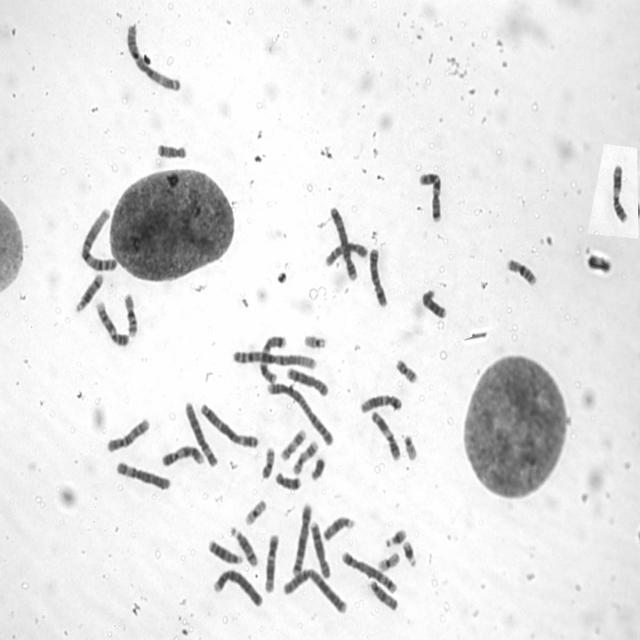A1: (78, 204, 120, 274), (232, 350, 316, 371)
A2: (267, 383, 335, 448), (282, 567, 348, 615)
A3: (126, 21, 182, 94), (200, 402, 259, 448)
B4: (211, 566, 263, 610), (329, 207, 359, 282)
B5: (340, 552, 398, 595), (292, 502, 313, 578)
C10: (107, 416, 150, 455), (325, 242, 369, 268)
C11: (371, 412, 402, 462), (610, 164, 629, 224)
C12: (263, 534, 280, 594), (360, 394, 403, 414)
C6: (184, 400, 218, 468), (115, 462, 172, 492)
C7: (416, 170, 444, 222), (258, 335, 287, 384)
C8: (286, 366, 329, 398), (309, 520, 331, 580)
C9: (96, 300, 130, 347), (161, 444, 205, 470)
D13: (208, 538, 243, 566), (421, 290, 449, 319)
D14: (230, 524, 259, 568), (74, 271, 104, 313)
D15: (368, 579, 399, 615), (322, 515, 354, 543)
E16: (504, 258, 538, 288), (123, 292, 138, 340)
E17: (292, 440, 319, 476), (280, 429, 308, 461)
E18: (154, 140, 187, 160), (274, 471, 302, 491)
F19: (242, 496, 267, 527), (377, 550, 401, 572)
F20: (393, 357, 419, 385), (260, 445, 276, 481)
G21: (402, 539, 418, 569), (383, 528, 408, 546)
G22: (303, 332, 329, 352), (404, 432, 418, 462)
X: (368, 248, 389, 309)
Y: (310, 457, 326, 481)
